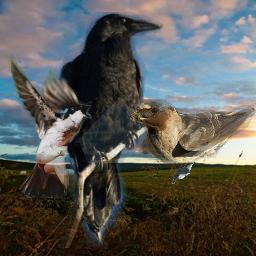Crow: (58, 12, 163, 248)
Cuckoo: (171, 162, 196, 184)
Swallow: (5, 53, 92, 198), (130, 99, 256, 167)
